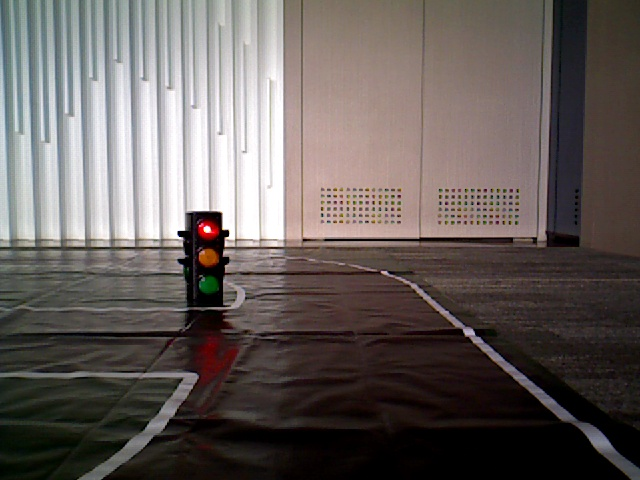red: (188, 212, 222, 298)
